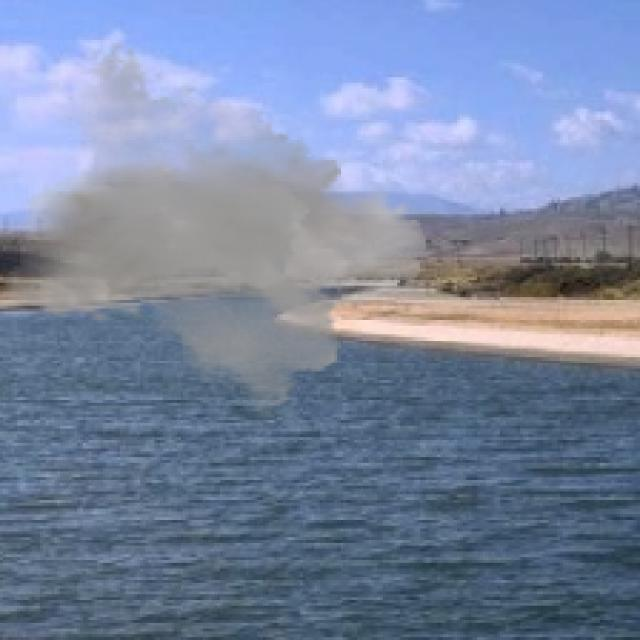smoke: (3, 40, 428, 420)
